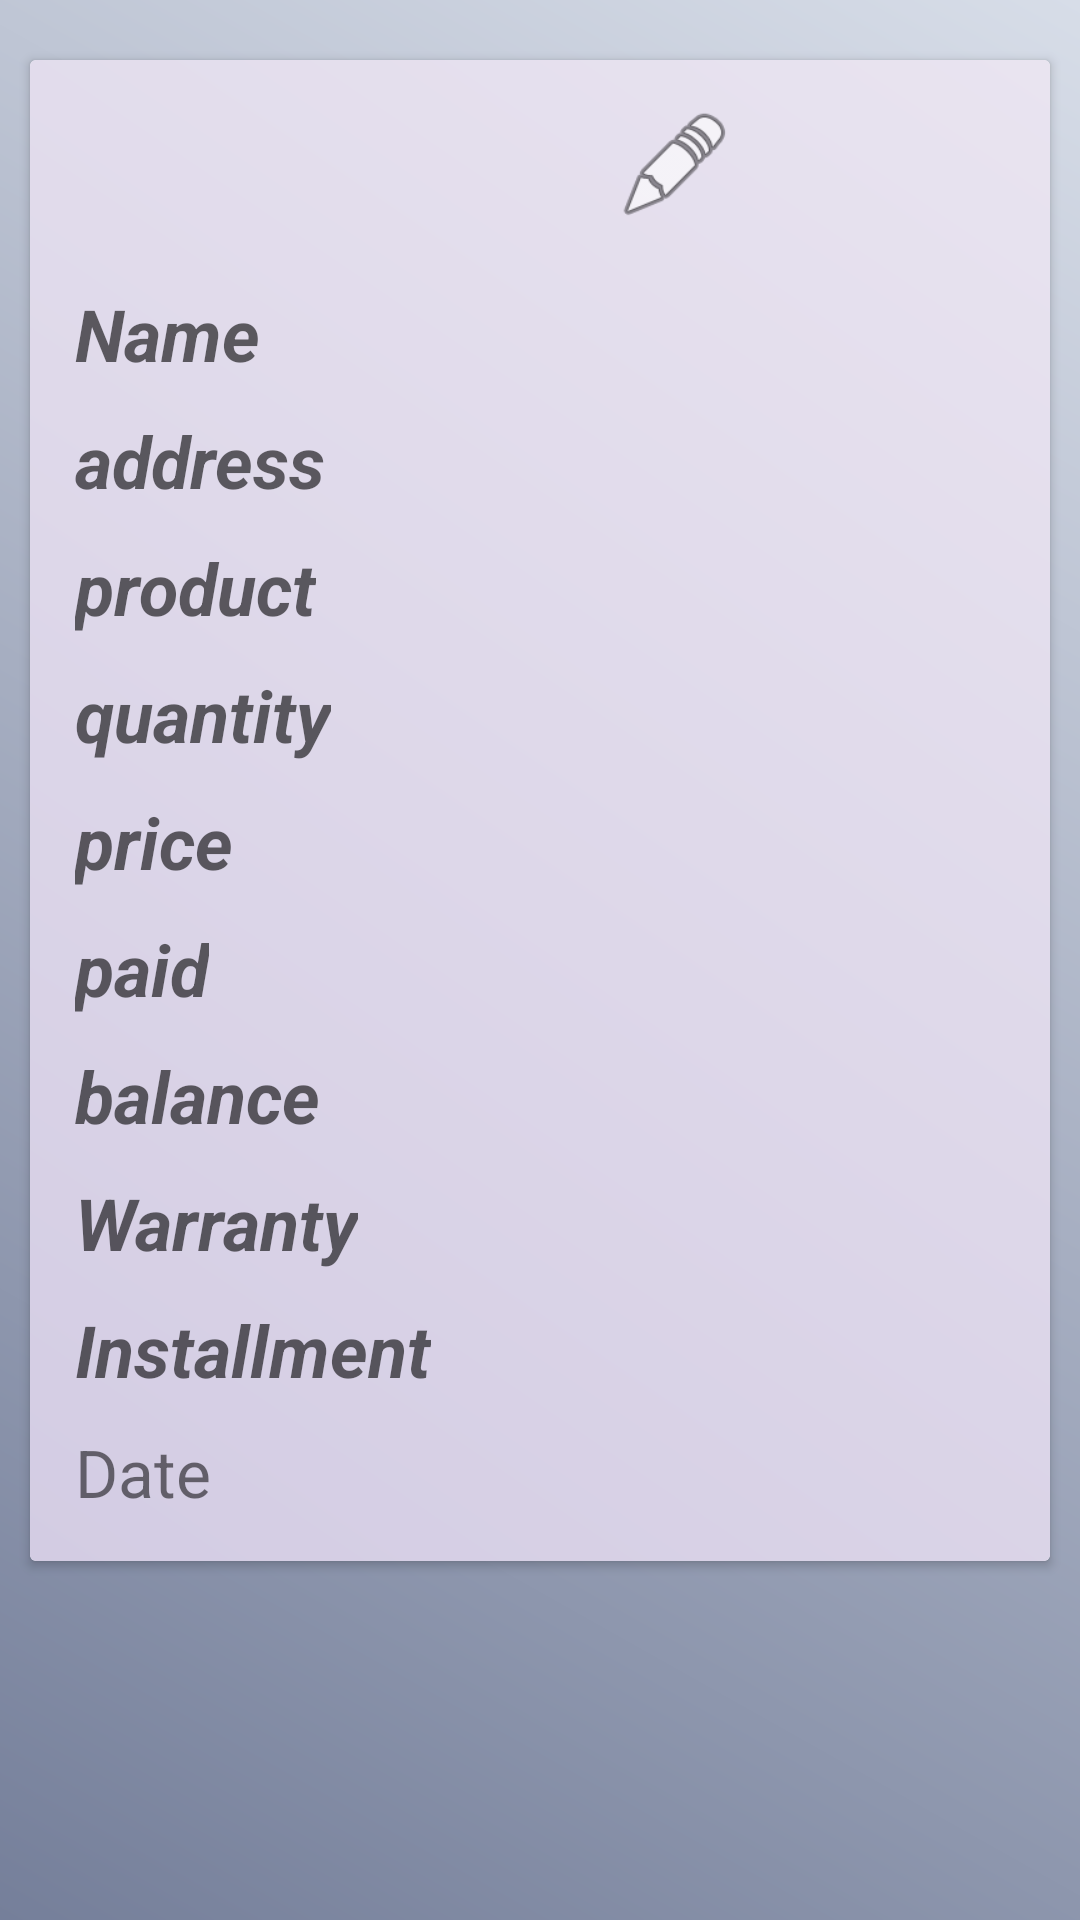

Where to tap for icons on this 1080w x 1920h app screen, as [x,y]:
edit: [674,164]
